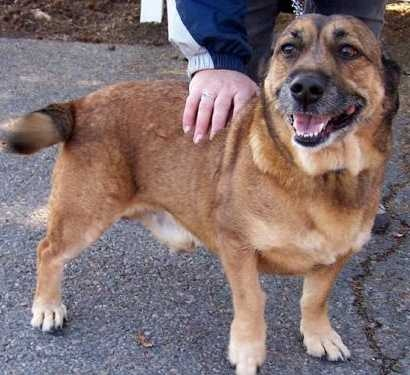Dog: (2, 15, 398, 374)
